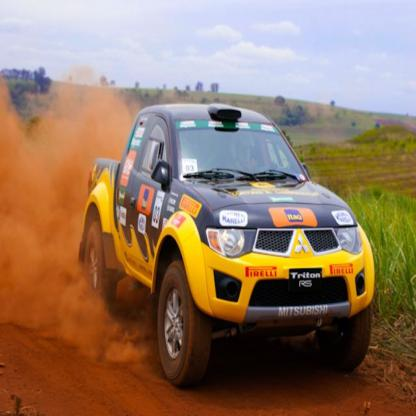Truck: (78, 103, 375, 388)
